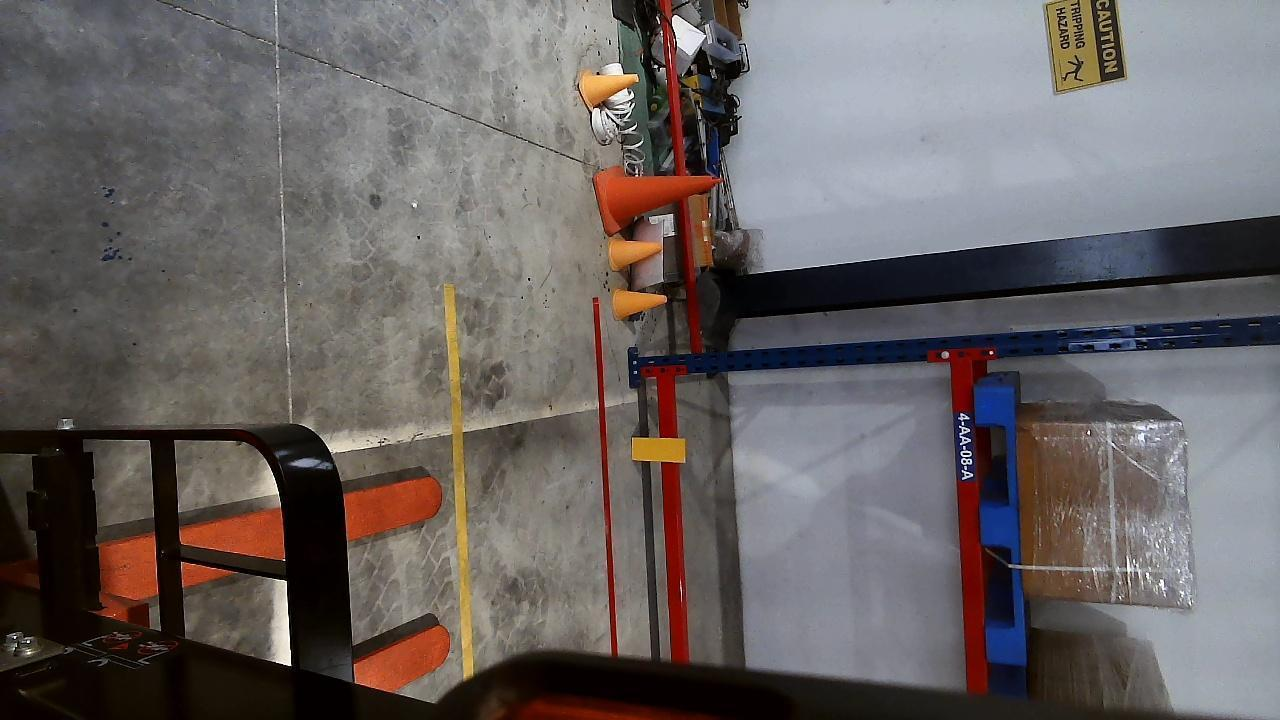red_line: (590, 296, 616, 657)
yellow_line: (442, 284, 474, 682)
